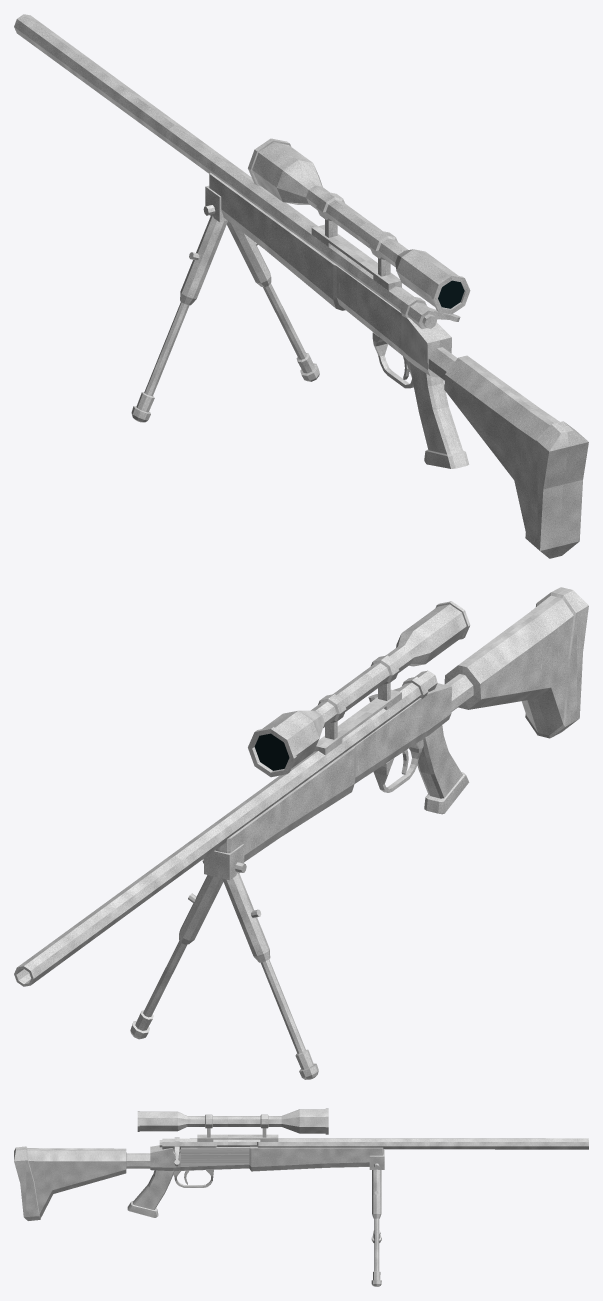
File: sniper2.obj
3 views of the same model, one above another, from view 1: azimuth 30°, elevation 25°; view 2: azimuth 150°, elevation 25°; view 3: azimuth 270°, elevation 25° (orthographic). The views are drawn at different scales.
Visible parts, largest first — view 1: SniperRifle_5_Cube.131; view 2: SniperRifle_5_Cube.131; view 3: SniperRifle_5_Cube.131.
Boxes of the visible parts, x1,y1,x2,y2 form: SniperRifle_5_Cube.131: [14, 14, 588, 558]; SniperRifle_5_Cube.131: [14, 587, 588, 1079]; SniperRifle_5_Cube.131: [14, 1108, 588, 1286].
Bounding box in the file's own units: 0.2246 × 0.3419 × 1.14.
Materials: 6 (5 with a texture image).
